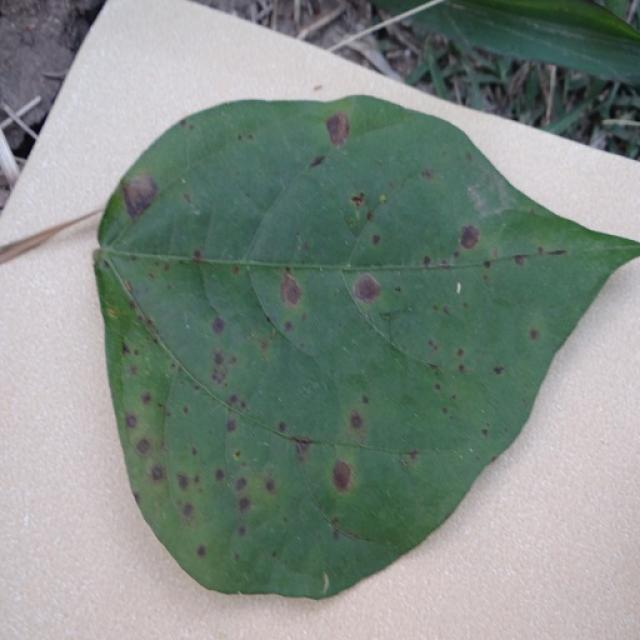Anthracnose: (122, 173, 161, 217), (208, 347, 238, 389), (351, 270, 390, 301), (278, 269, 303, 307), (325, 110, 351, 146), (331, 458, 353, 492), (458, 224, 481, 250), (136, 437, 151, 455), (150, 464, 165, 482), (295, 439, 310, 457), (211, 316, 225, 335), (309, 155, 325, 169), (176, 473, 189, 490), (350, 413, 363, 430), (181, 502, 194, 518), (125, 414, 138, 429), (235, 476, 247, 492), (235, 132, 254, 142), (238, 496, 250, 511), (264, 478, 276, 493), (513, 254, 526, 267), (140, 391, 152, 405), (226, 417, 237, 432), (528, 328, 540, 341), (421, 168, 434, 180), (123, 278, 133, 293), (215, 468, 225, 481), (196, 544, 206, 557), (121, 342, 131, 355), (493, 365, 504, 375), (330, 516, 340, 527), (192, 250, 202, 261), (428, 340, 438, 351), (278, 421, 287, 433), (237, 525, 246, 537), (183, 192, 192, 204), (332, 527, 340, 540), (422, 255, 431, 266), (372, 234, 381, 245), (284, 321, 293, 332), (129, 365, 138, 375), (101, 260, 110, 270), (465, 151, 473, 162), (536, 246, 545, 255), (231, 265, 240, 274), (483, 259, 491, 269), (366, 211, 374, 221), (456, 348, 464, 357), (458, 364, 466, 373), (442, 306, 450, 315), (481, 428, 489, 437), (456, 281, 462, 293), (362, 395, 369, 404), (434, 383, 441, 391)
Blackgram: (90, 92, 639, 605)
